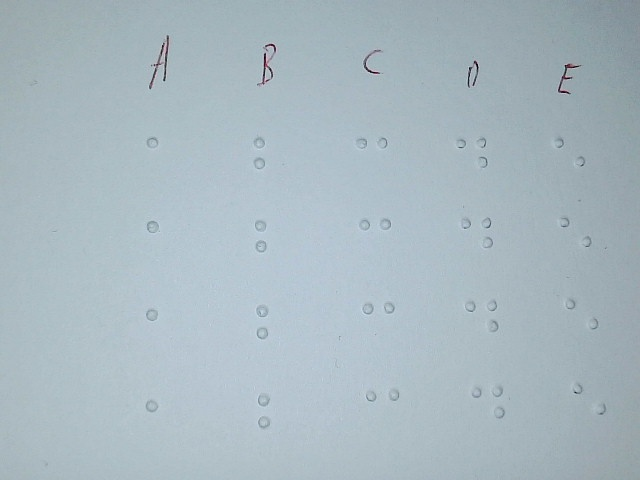A: (139, 127, 189, 205), (139, 210, 189, 288), (137, 299, 187, 377), (137, 389, 187, 467)
B: (246, 128, 293, 197), (247, 213, 294, 282), (248, 295, 295, 364), (250, 384, 297, 453)
C: (354, 208, 397, 273), (357, 291, 400, 356), (361, 380, 404, 445), (352, 128, 394, 193)
